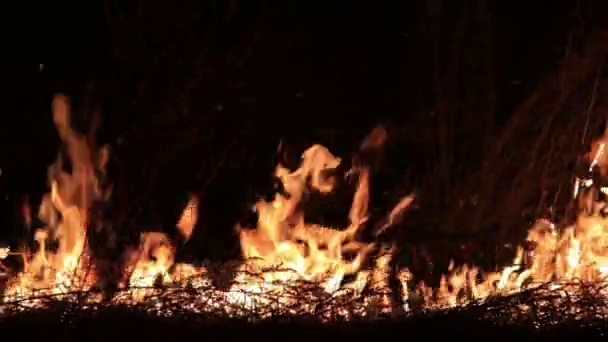fire: (229, 145, 378, 312), (432, 213, 608, 306), (5, 184, 86, 301), (118, 232, 174, 306)
